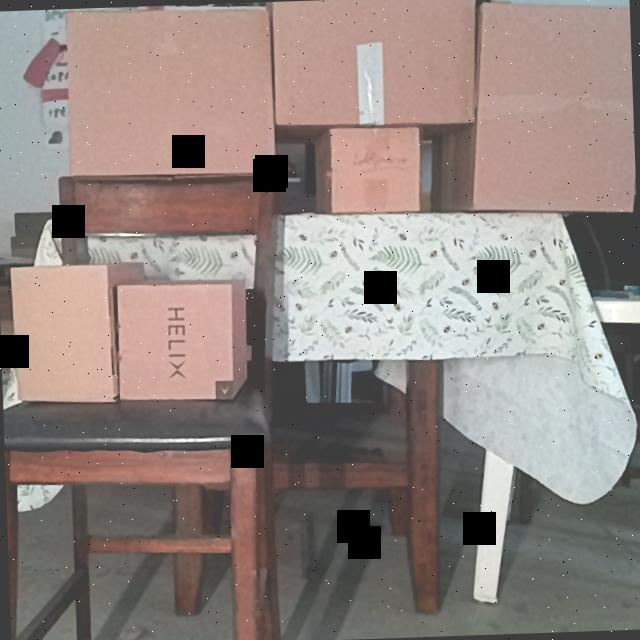box: (64, 2, 278, 180), (478, 0, 636, 209), (272, 0, 477, 126), (10, 264, 115, 402), (116, 282, 234, 401), (330, 126, 422, 214)
